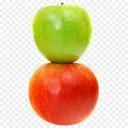apple: (32, 2, 93, 64)
